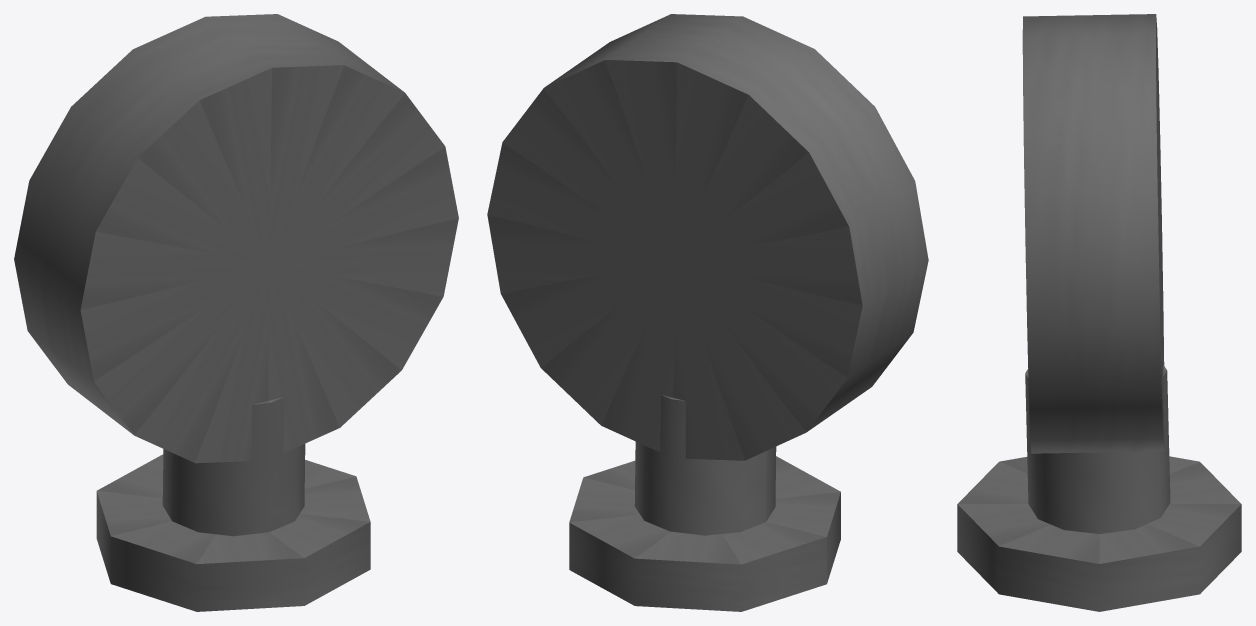
The model's file is mastarmcurve_10x2_c11_down.obj.
The picture shows the model from 3 angles, left to right: view 1: azimuth 30°, elevation 25°; view 2: azimuth 150°, elevation 25°; view 3: azimuth 270°, elevation 25°; orthographic projection.
Parts seen in each view (by area): view 1: mastarm_10x2_c11_down; view 2: mastarm_10x2_c11_down; view 3: mastarm_10x2_c11_down.
Part boxes in pixels (x1,y1,x2,y2): mastarm_10x2_c11_down: [14, 14, 458, 611]; mastarm_10x2_c11_down: [487, 14, 928, 611]; mastarm_10x2_c11_down: [957, 14, 1241, 611].
Size of the model in its own units: 0.6163 by 0.8042 by 0.4.
